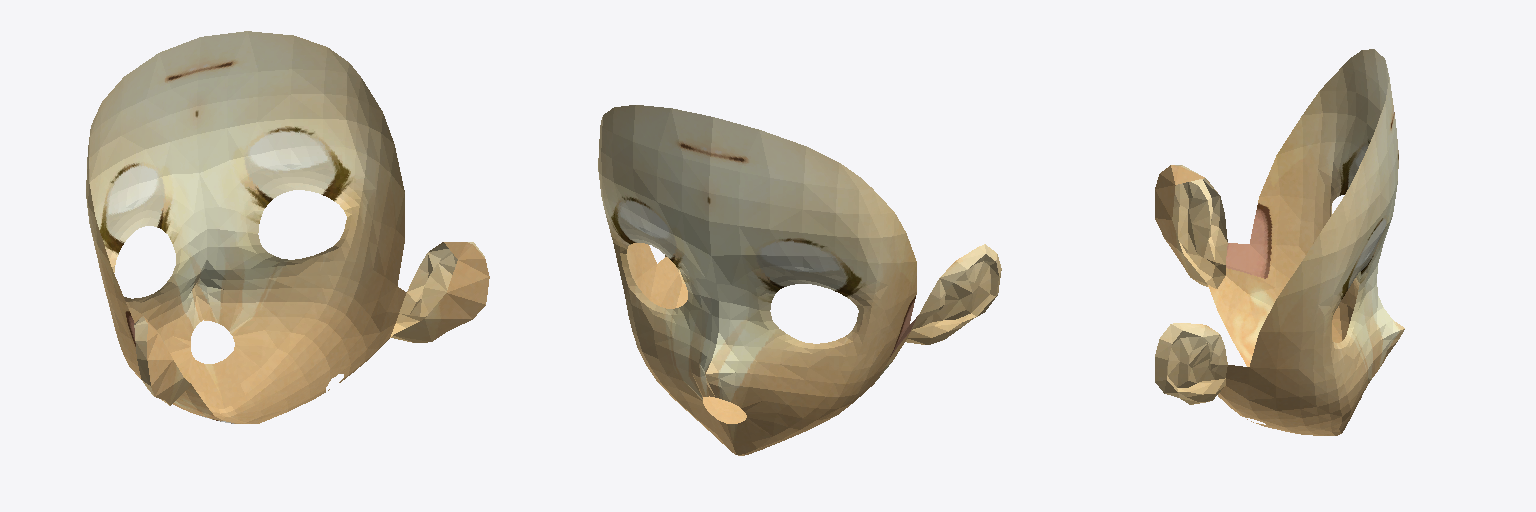
The picture shows the model from 3 angles: view 1: azimuth 30°, elevation 25°; view 2: azimuth 150°, elevation 25°; view 3: azimuth 270°, elevation 25°; orthographic projection.
Visible parts, largest first — view 1: skinSource0NLE.1; view 2: skinSource0NLE.1; view 3: skinSource0NLE.1.
Part boxes in pixels (x1,y1,x2,y2): skinSource0NLE.1: (86, 31, 489, 423); skinSource0NLE.1: (598, 105, 1001, 455); skinSource0NLE.1: (1155, 49, 1404, 435).
Bounding box in the file's own units: 18.41 × 18 × 11.41.
Materials: 1 (1 with a texture image).